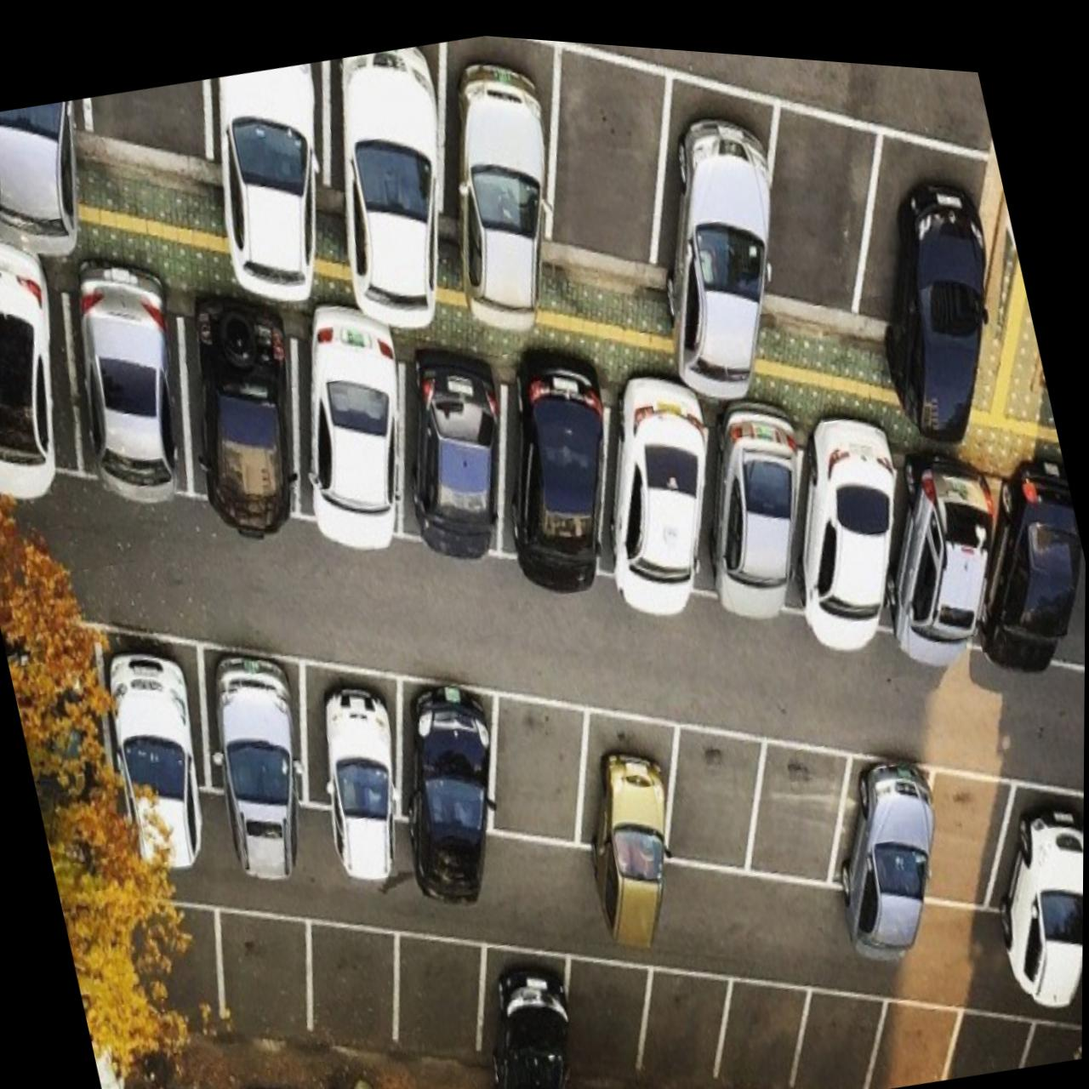cars: (595, 46, 827, 349), (552, 344, 737, 656), (840, 98, 1025, 394), (352, 296, 531, 593), (747, 378, 916, 683), (255, 276, 427, 575), (398, 30, 591, 290), (164, 263, 326, 568), (38, 238, 208, 525), (463, 326, 631, 614), (653, 383, 831, 651), (70, 602, 238, 867), (850, 434, 1015, 701), (940, 416, 1086, 709), (173, 627, 342, 867), (305, 34, 476, 271), (186, 49, 363, 240), (553, 698, 706, 913), (810, 728, 954, 953), (374, 665, 521, 874), (285, 653, 420, 858), (0, 237, 93, 513), (969, 773, 1084, 986), (467, 928, 587, 1089), (1054, 793, 1084, 1001)
empty: (729, 64, 902, 363), (512, 38, 701, 298), (727, 718, 877, 925), (473, 677, 621, 885), (641, 703, 788, 911), (903, 751, 1029, 937), (373, 924, 509, 1085), (209, 897, 335, 1070), (297, 912, 421, 1066), (126, 905, 237, 1070), (542, 951, 664, 1089), (630, 955, 750, 1089), (707, 959, 821, 1089), (781, 974, 899, 1089), (858, 982, 978, 1089)
